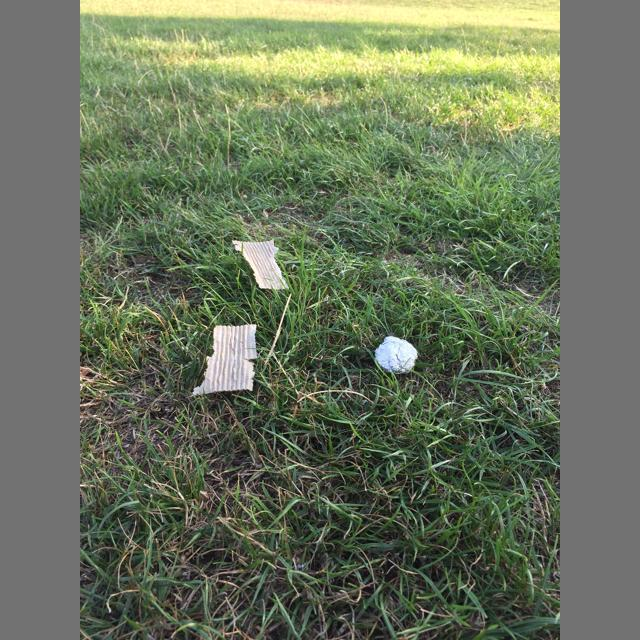litter: (193, 325, 257, 395), (232, 240, 289, 290), (375, 336, 418, 374)
